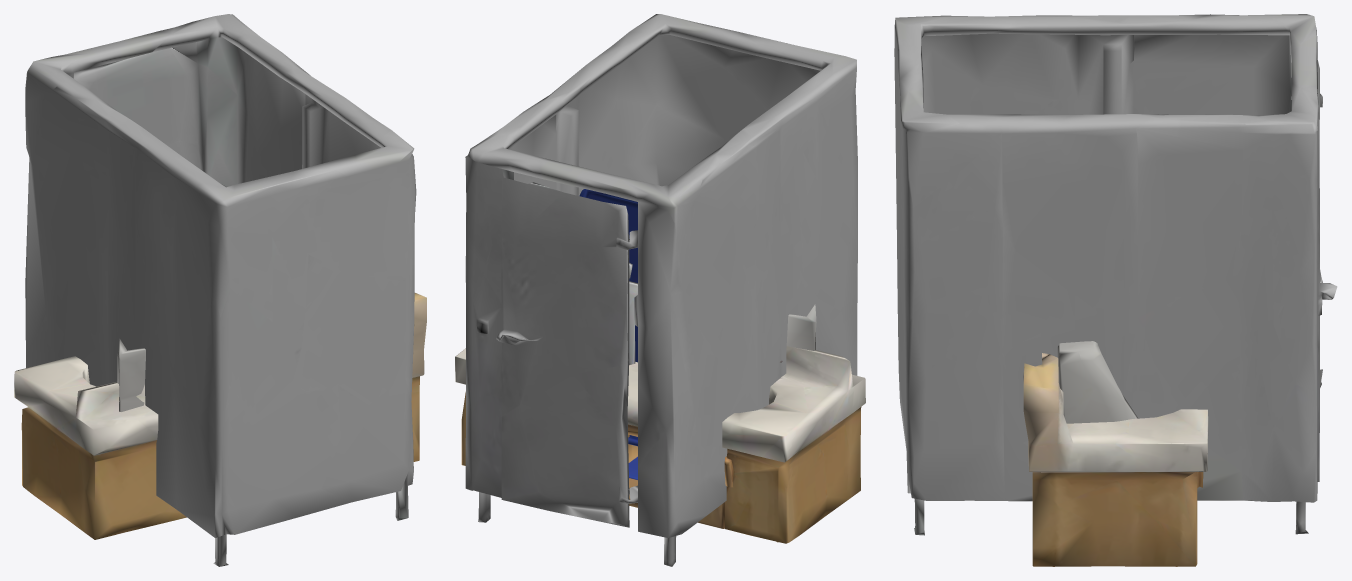
The model's file is restrooms.glb.
3 renders of one model, left to right at view 1: azimuth 30°, elevation 25°; view 2: azimuth 150°, elevation 25°; view 3: azimuth 270°, elevation 25°, orthographic. The views are drawn at different scales.
Visible parts, largest first — view 1: tripo_node_dc2739e5-8b31-49fa-856f-3a629a3c0b8a, tripo_node_093d5032-5650-4c02-b60c-7111b835d330, tripo_node_4ea6cd8d-0569-4f69-b96c-c89546639471; view 2: tripo_node_dc2739e5-8b31-49fa-856f-3a629a3c0b8a, tripo_node_093d5032-5650-4c02-b60c-7111b835d330, tripo_node_a8b9d528-805e-4c4b-9748-f9162862215a, tripo_node_4ea6cd8d-0569-4f69-b96c-c89546639471; view 3: tripo_node_dc2739e5-8b31-49fa-856f-3a629a3c0b8a, tripo_node_093d5032-5650-4c02-b60c-7111b835d330, tripo_node_4ea6cd8d-0569-4f69-b96c-c89546639471.
Part boxes in pixels (x1,y1,x2,y2): tripo_node_dc2739e5-8b31-49fa-856f-3a629a3c0b8a: (25,14,416,566); tripo_node_093d5032-5650-4c02-b60c-7111b835d330: (14,293,426,539); tripo_node_4ea6cd8d-0569-4f69-b96c-c89546639471: (117,339,145,411); tripo_node_dc2739e5-8b31-49fa-856f-3a629a3c0b8a: (465,14,857,566); tripo_node_093d5032-5650-4c02-b60c-7111b835d330: (455,346,865,543); tripo_node_a8b9d528-805e-4c4b-9748-f9162862215a: (579,189,637,479); tripo_node_4ea6cd8d-0569-4f69-b96c-c89546639471: (786,304,816,350); tripo_node_dc2739e5-8b31-49fa-856f-3a629a3c0b8a: (894,14,1337,535); tripo_node_093d5032-5650-4c02-b60c-7111b835d330: (1023,353,1208,566); tripo_node_4ea6cd8d-0569-4f69-b96c-c89546639471: (1057,341,1138,423).
Bounding box in the file's own units: 1.95 × 2.1 × 2.03.
4 materials, 4 textured.
